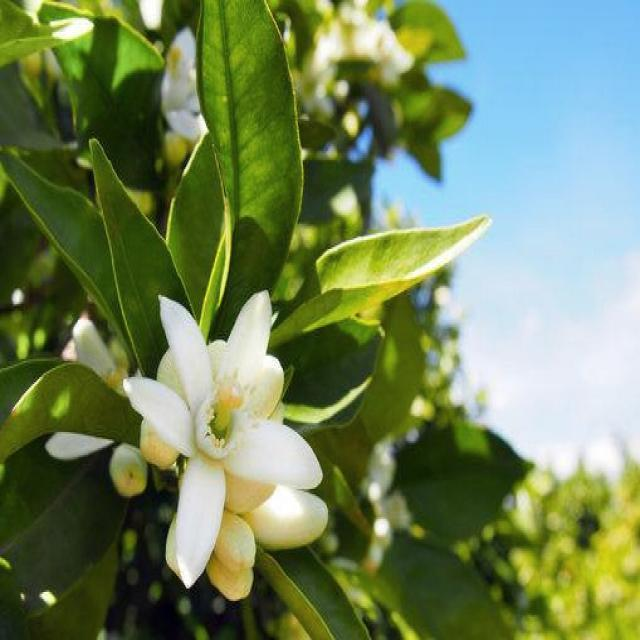Bunga: (132, 292, 317, 574), (44, 316, 146, 461), (248, 489, 332, 546), (212, 508, 256, 570), (206, 558, 253, 598), (112, 442, 147, 494)
